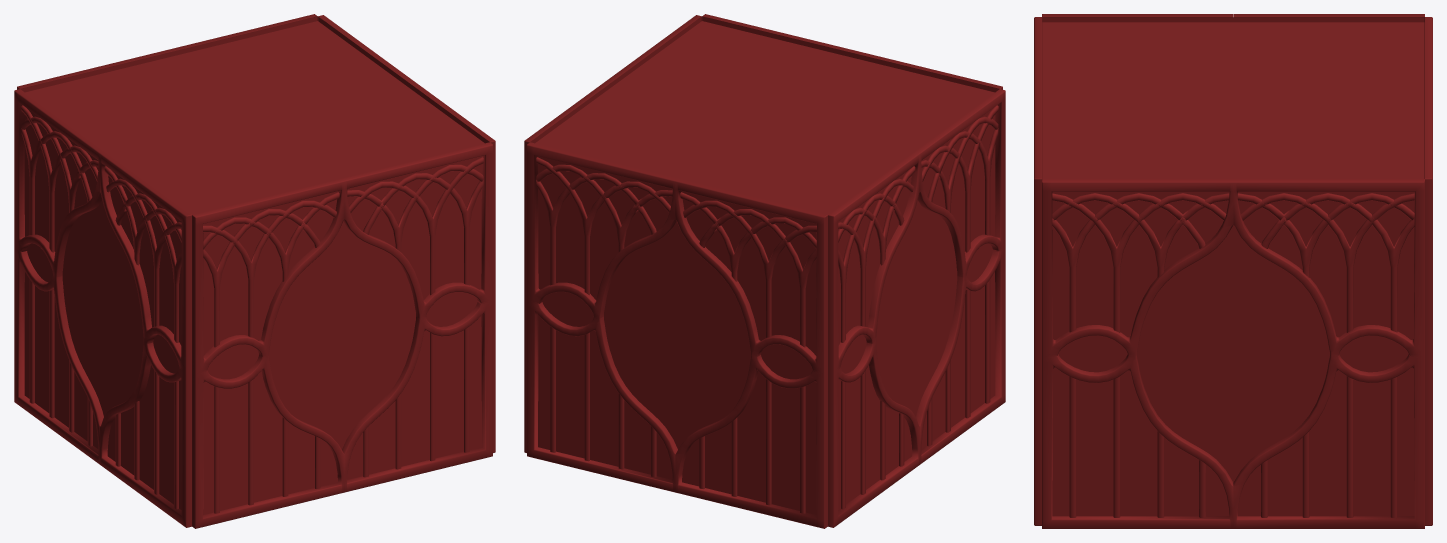
File: SM_elfe_wall.fbx
3 views of the same model, side by side, from view 1: azimuth 30°, elevation 25°; view 2: azimuth 150°, elevation 25°; view 3: azimuth 270°, elevation 25° (orthographic). The views are drawn at different scales.
Visible parts, largest first — view 1: SM_elfe_wall; view 2: SM_elfe_wall; view 3: SM_elfe_wall.
Part boxes in pixels (x1=…): SM_elfe_wall: x1=14, y1=14, x2=495, y2=528; SM_elfe_wall: x1=524, y1=14, x2=1005, y2=528; SM_elfe_wall: x1=1034, y1=14, x2=1432, y2=528.
Bounding box in the file's own units: 40.98 × 39.37 × 40.98.
